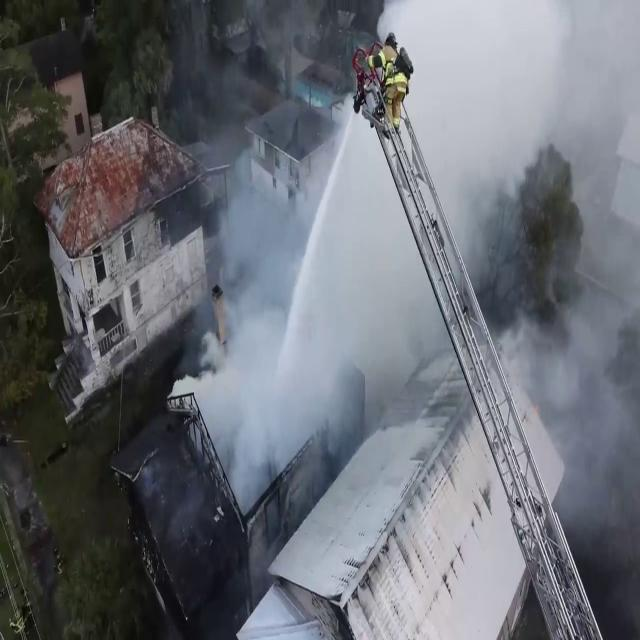Smoke: (194, 328, 326, 499)
